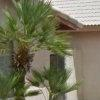Palm tree: (2, 3, 52, 95)
